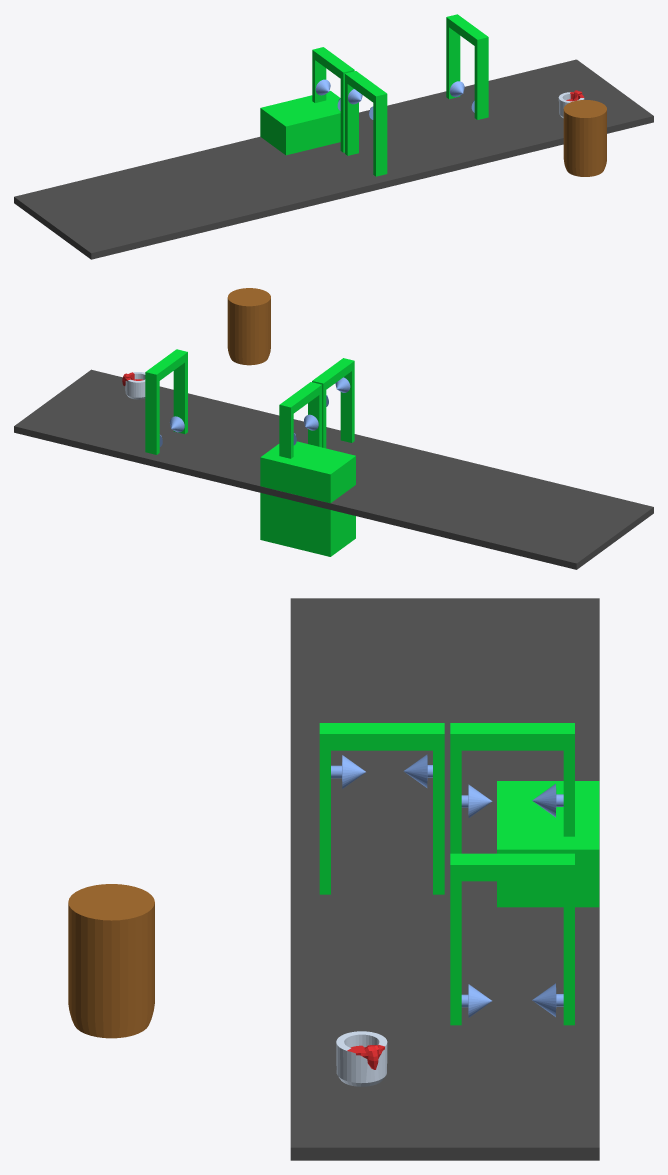
Rendered from Vase.fbx.
The picture shows the model from 3 angles, top to bottom: view 1: azimuth 30°, elevation 25°; view 2: azimuth 150°, elevation 25°; view 3: azimuth 270°, elevation 25°; orthographic projection. The views are drawn at different scales.
Visible parts, largest first — view 1: Road, Cube.001, Vase, Gate.002, Gate, Gate.001; view 2: Road, Cube.001, Vase, Gate.002, Gate.001, Gate, PaintCan; view 3: Road, Vase, Cube.001, Gate.002, Gate, Gate.001, PaintCan.
Part boxes in pixels (box(x1,y1,x2,y2)): Road: box(14, 59, 653, 259); Cube.001: box(260, 91, 340, 155); Vase: box(563, 100, 606, 176); Gate.002: box(446, 14, 488, 119); Gate: box(345, 71, 387, 176); Gate.001: box(312, 47, 354, 152); Road: box(14, 369, 653, 569); Cube.001: box(260, 441, 355, 556); Vase: box(227, 288, 270, 365); Gate.002: box(145, 349, 187, 454); Gate.001: box(279, 382, 321, 458); Gate: box(312, 358, 354, 448); PaintCan: box(122, 372, 145, 399); Road: box(290, 598, 599, 1160); Vase: box(68, 884, 154, 1038); Cube.001: box(497, 781, 599, 907); Gate.002: box(450, 853, 574, 1025); Gate: box(319, 723, 444, 894); Gate.001: box(450, 723, 574, 853); PaintCan: box(336, 1031, 387, 1086).
Bounding box in the file's own units: 3000 × 683 × 1227.
